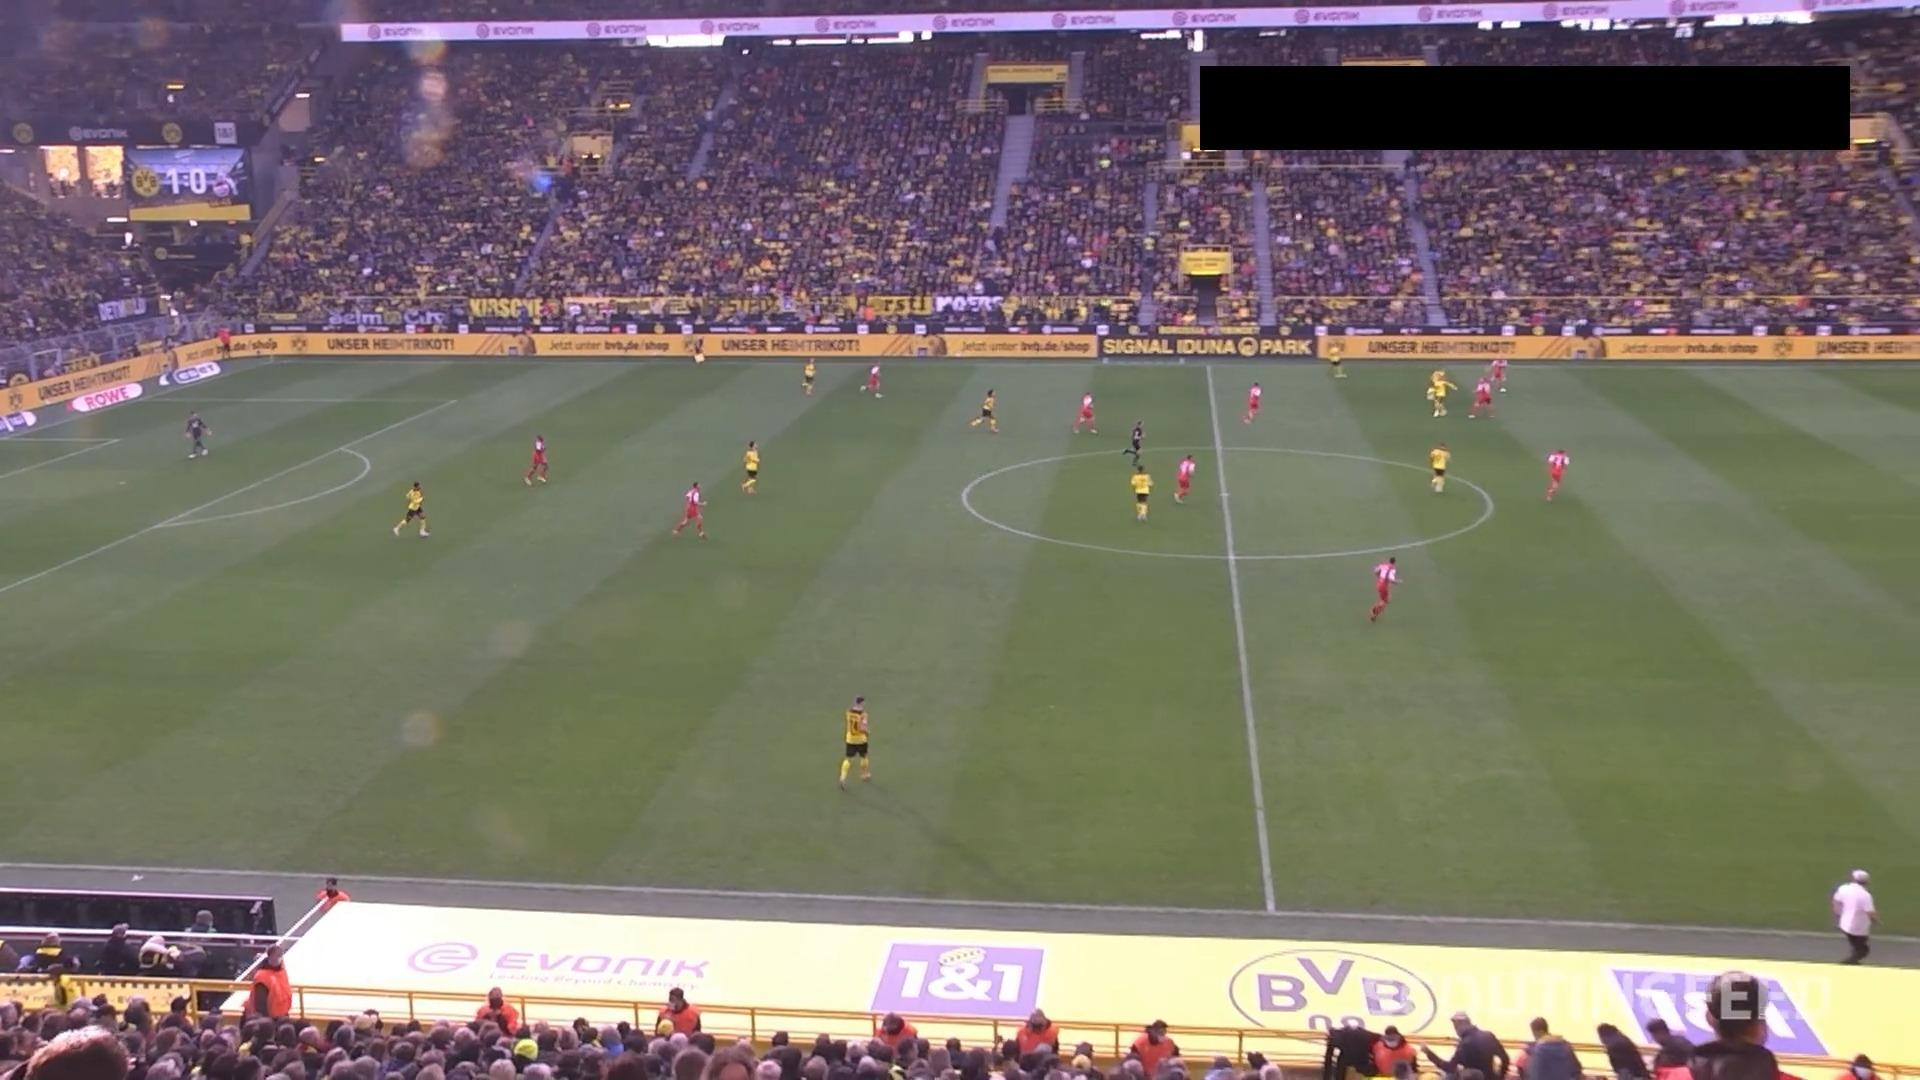coach: (1830, 867, 1880, 963)
fan: (1686, 970, 1780, 1078), (1321, 1014, 1379, 1078)
player: (837, 695, 872, 790), (390, 480, 431, 537), (1367, 554, 1402, 620), (671, 480, 709, 539), (968, 388, 999, 433), (183, 410, 212, 458), (523, 433, 549, 485), (1544, 447, 1569, 501), (1129, 463, 1152, 521), (1430, 370, 1457, 418), (1467, 375, 1494, 419), (1071, 391, 1098, 434), (1428, 442, 1450, 493), (740, 439, 760, 493), (1173, 453, 1195, 502), (1242, 379, 1261, 424), (1486, 354, 1508, 392), (1425, 367, 1447, 403), (861, 363, 883, 398), (1327, 342, 1346, 378), (801, 356, 816, 395)
referee: (1121, 419, 1144, 465), (216, 325, 230, 356), (691, 336, 705, 364)
